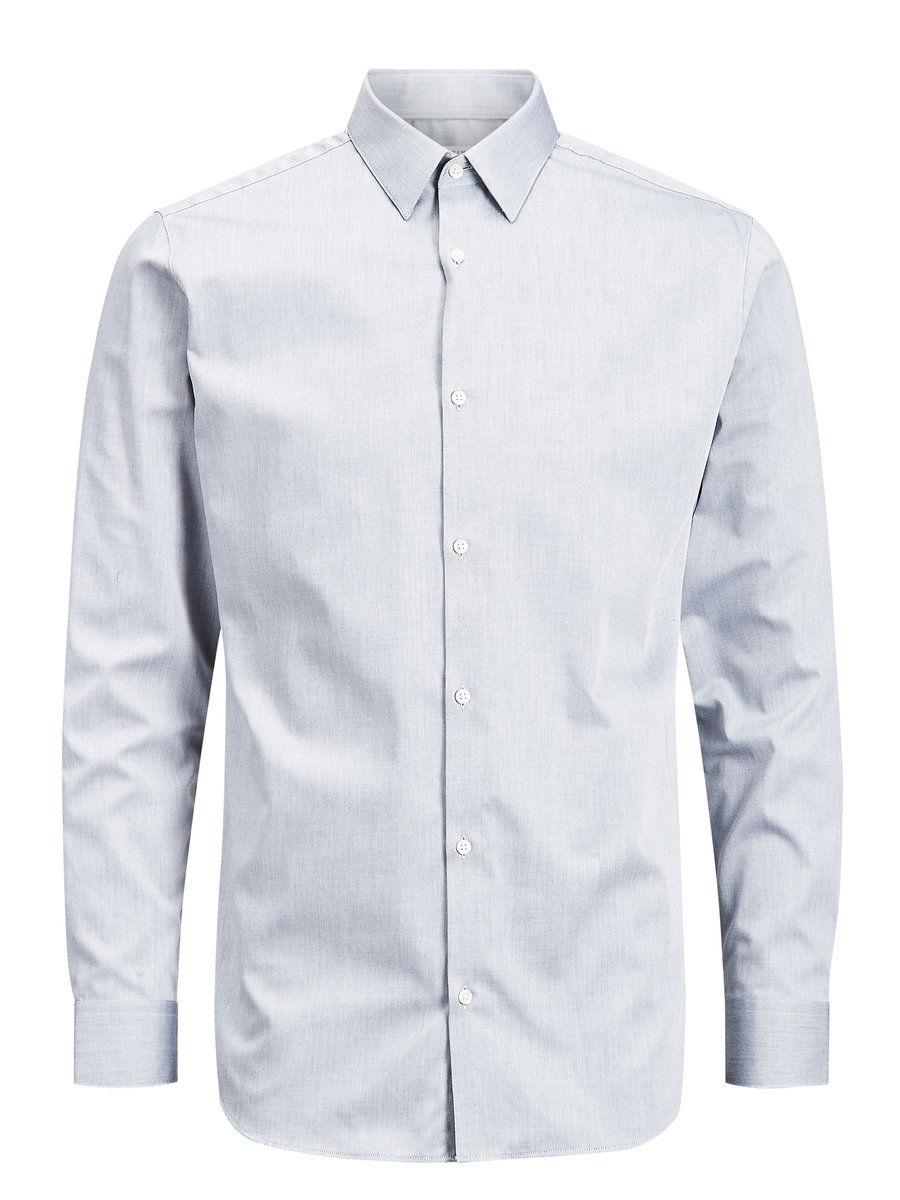teeshirt: (42, 74, 858, 1178)
